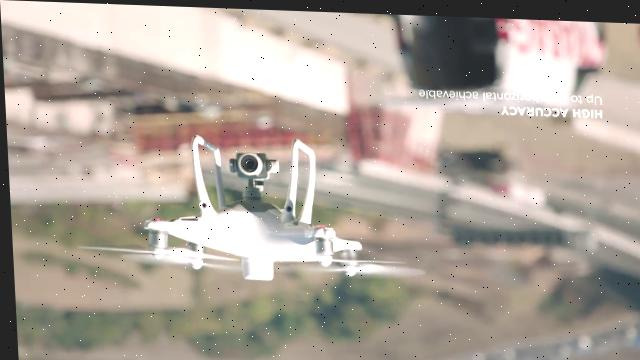drone: (70, 126, 425, 288)
